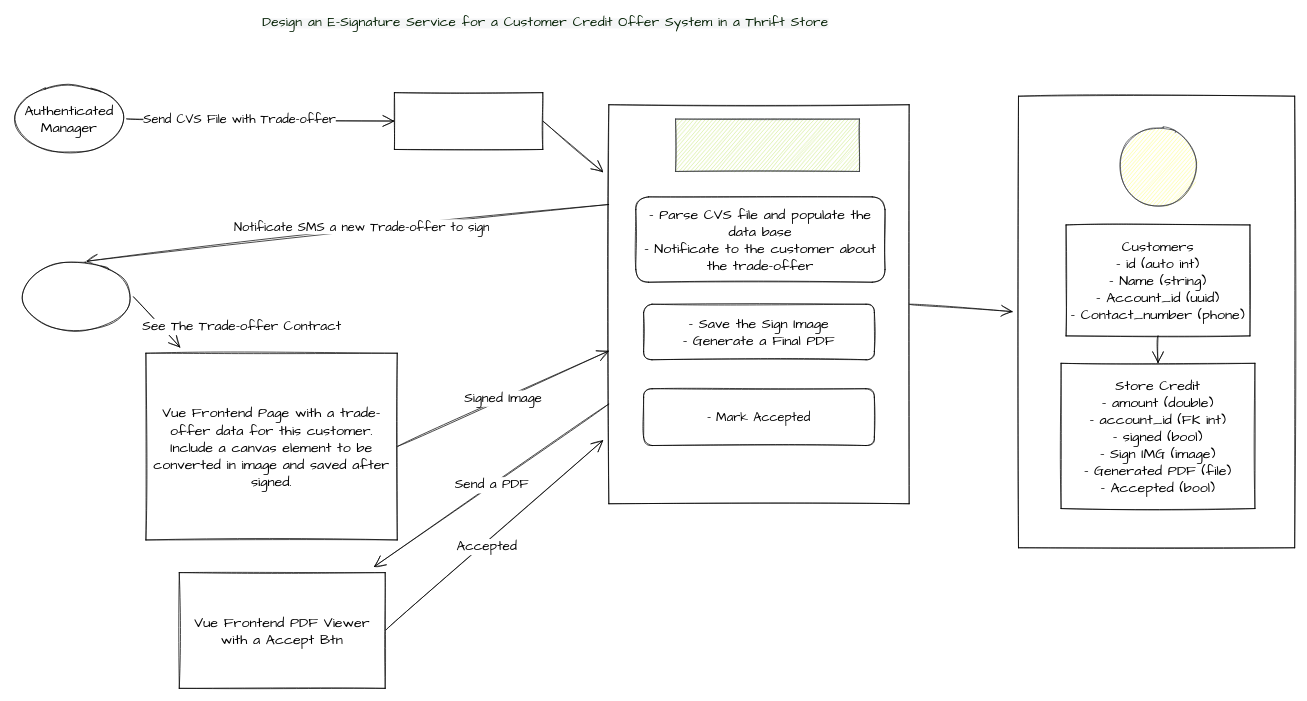
This 1307x701 diagram has some shape labels left out. Each missing label, with the centre of its shape:
"Authenticated Customer" goes at (76,296).
"Data Base" goes at (1157,166).
"Django Admin Page" goes at (468,120).
"Django/Rest Backend" goes at (767,144).
